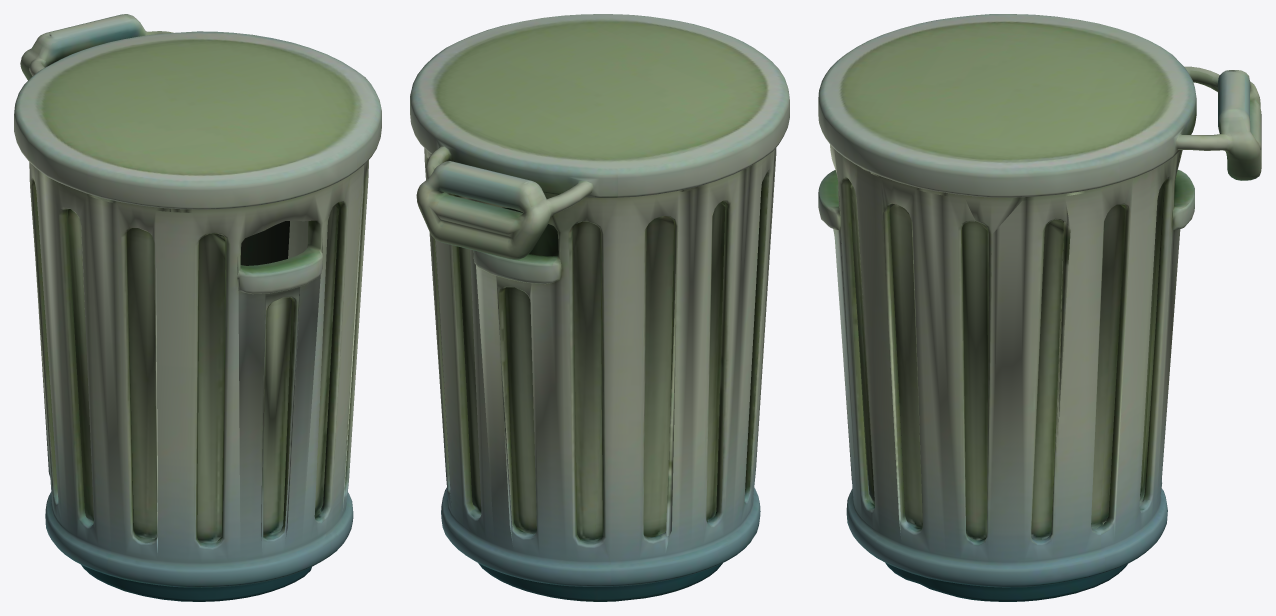
File: Urban__park_garbage_can_24473073_v2.cluster.glb
3 views of the same model, side by side, from view 1: azimuth 30°, elevation 25°; view 2: azimuth 150°, elevation 25°; view 3: azimuth 270°, elevation 25° (orthographic). The views are drawn at different scales.
Parts seen in each view (by area): view 1: material; view 2: material; view 3: material.
Boxes of the visible parts, <box> form: material: <box>14,14,381,601</box>; material: <box>410,14,789,601</box>; material: <box>818,14,1261,601</box>.
Size of the model in its own units: 1.42 by 1.9 by 1.66.
Materials: 1 (1 with a texture image).
